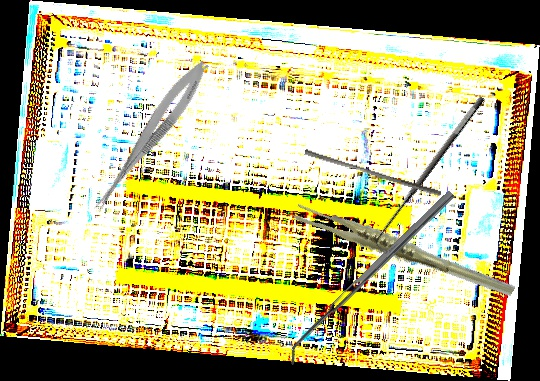Hook Surgical: (366, 93, 497, 257)
Micro Scissor: (88, 55, 214, 219)
Pusher: (302, 148, 444, 197)
Spatula Surgical: (280, 190, 462, 366)
Tissue Forceps: (290, 168, 517, 335)
